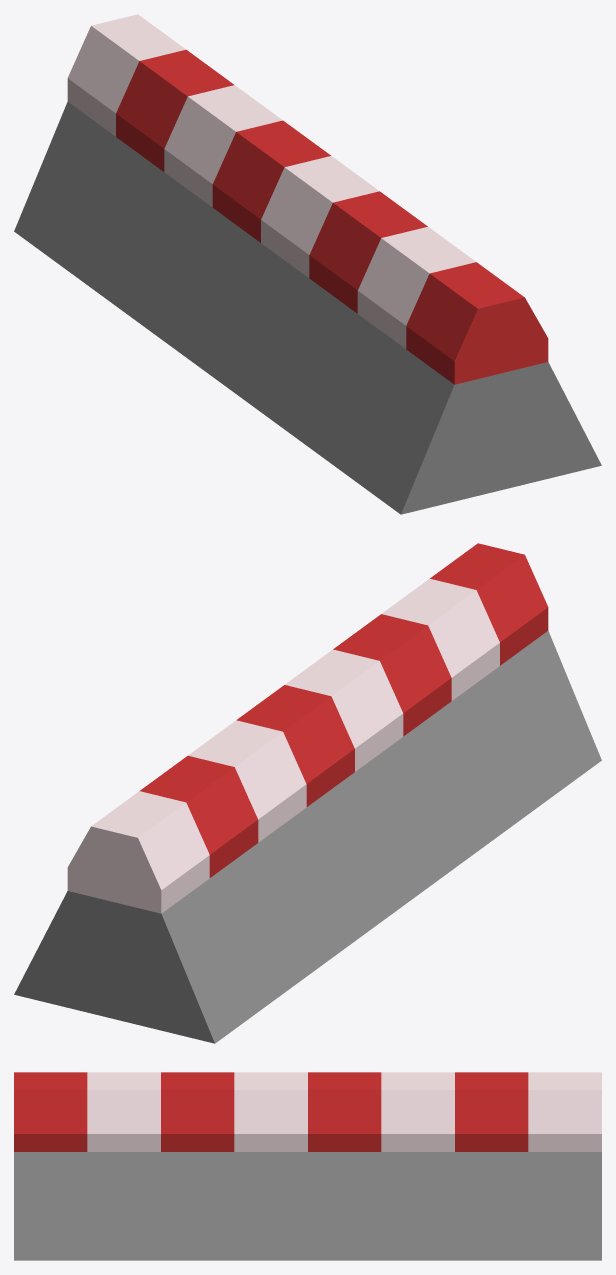
Rendered from Block1.fbx.
3 renders of one model, top to bottom at view 1: azimuth 30°, elevation 25°; view 2: azimuth 150°, elevation 25°; view 3: azimuth 270°, elevation 25°, orthographic. The views are drawn at different scales.
Parts seen in each view (by area): view 1: Fence; view 2: Fence; view 3: Fence.
Boxes of the visible parts, x1,y1,x2,y2 form: Fence: [14, 14, 601, 514]; Fence: [14, 543, 601, 1043]; Fence: [14, 1072, 601, 1260].
Size of the model in its own units: 90 by 80 by 300.
